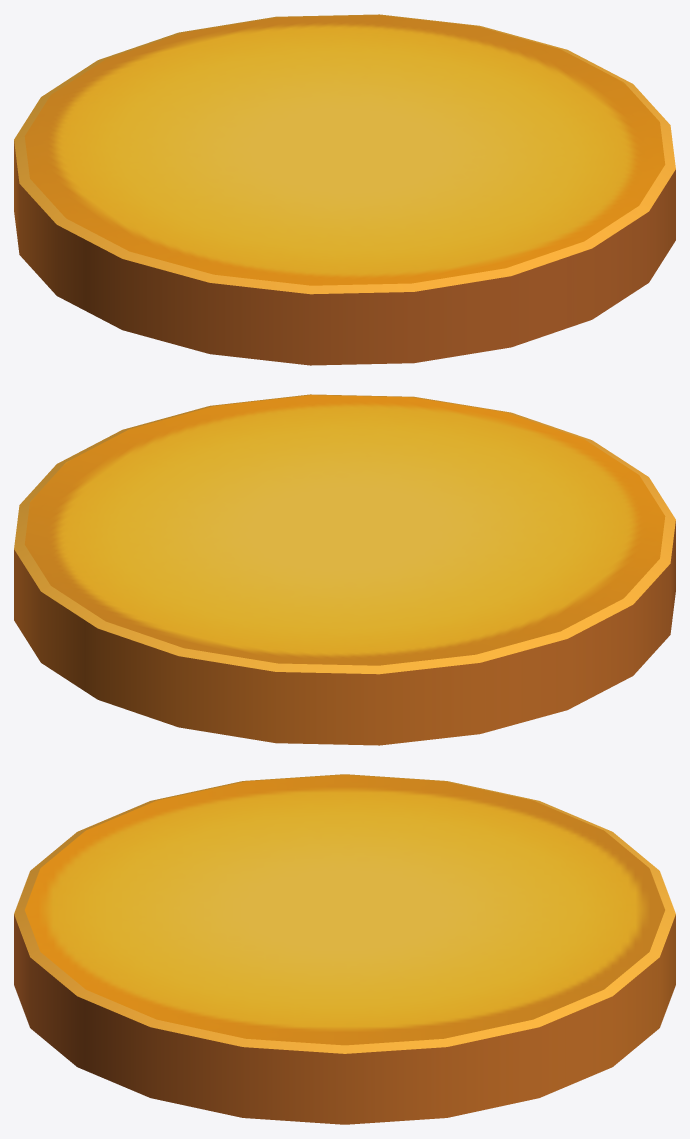
File: Coin.FBX
3 views of the same model, one above another, from view 1: azimuth 30°, elevation 25°; view 2: azimuth 150°, elevation 25°; view 3: azimuth 270°, elevation 25° (orthographic).
Visible parts, largest first — view 1: Coin; view 2: Coin; view 3: Coin.
Part boxes in pixels (<box>): Coin: <box>14,14,675,365</box>; Coin: <box>14,394,675,745</box>; Coin: <box>14,774,675,1124</box>.
Size of the model in its own units: 0.7333 by 0.0963 by 0.7333.
